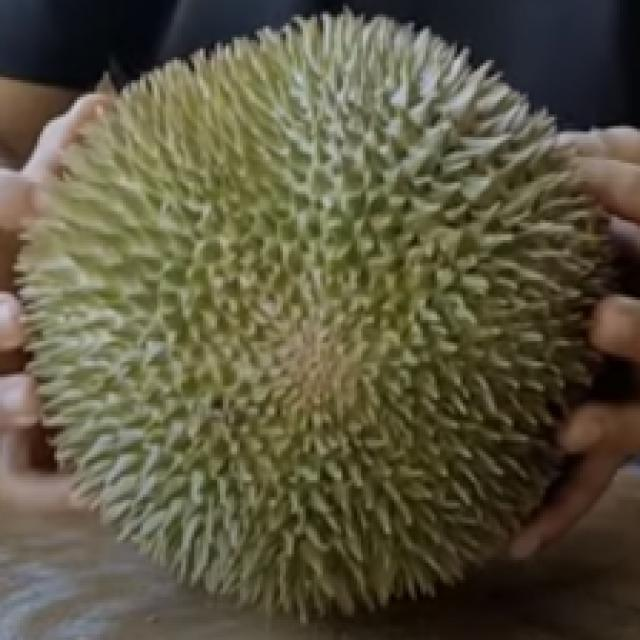d101: (43, 55, 585, 584)
